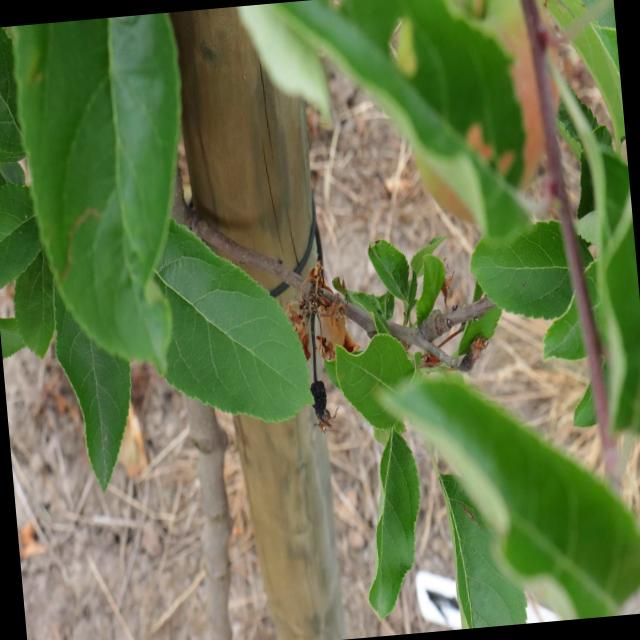-FireBlight-: (292, 274, 355, 349)
